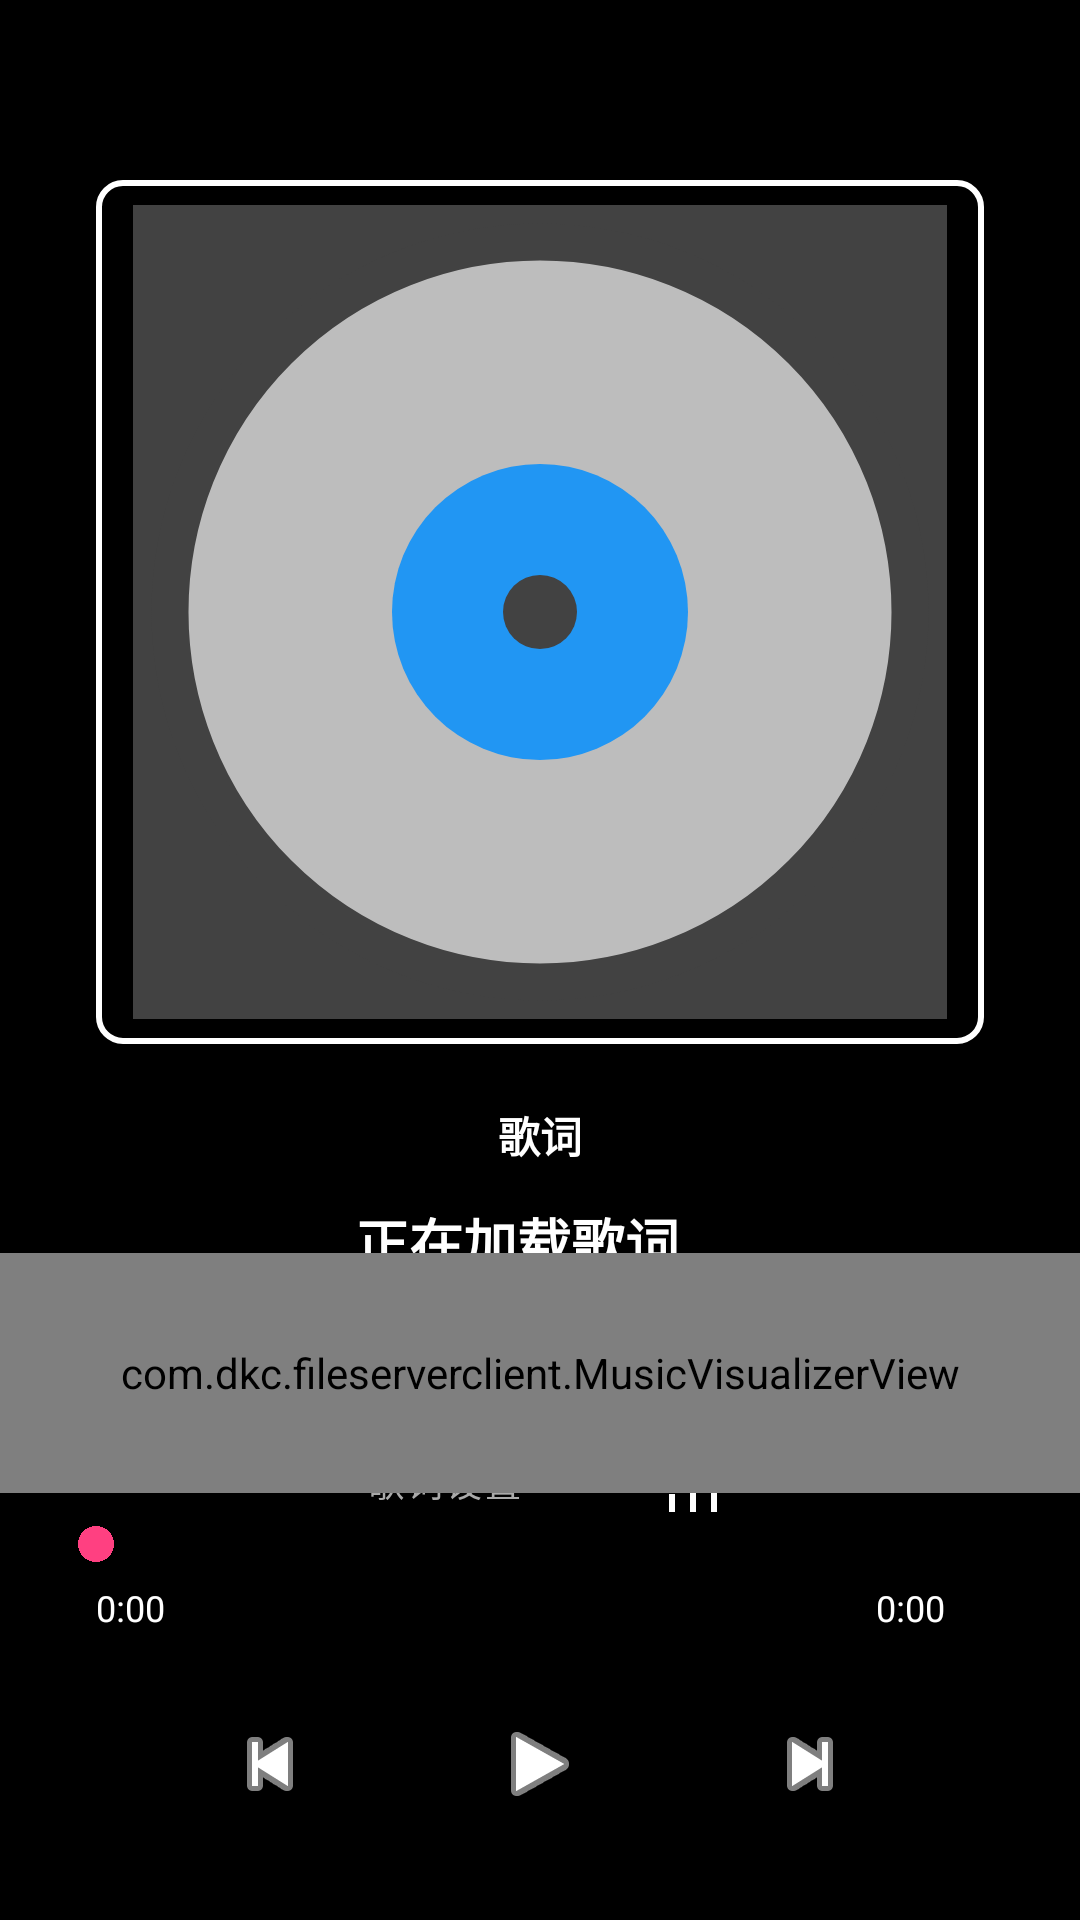

Screen size 1080w x 1920h. Icon name, then its center in pixels as point (x, y):
上一首: point (270, 1764)
下一首: point (810, 1764)
播放/暂停: point (540, 1764)
